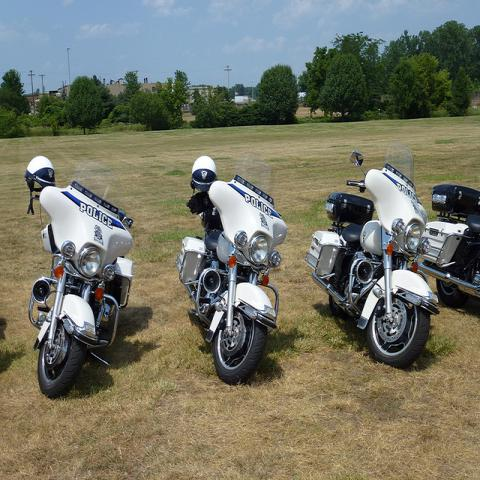motorcycle: (303, 146, 440, 371), (24, 155, 134, 401), (176, 156, 289, 384), (418, 172, 480, 315)
